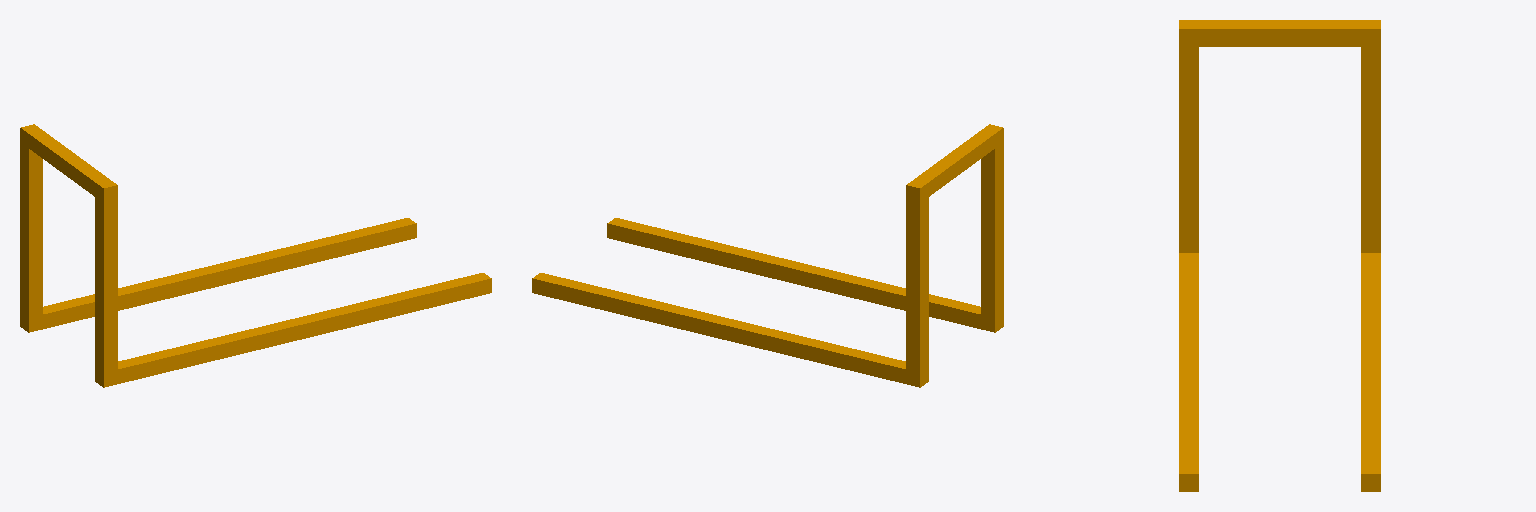
The robot description file, URDF, robot "post":
<?xml version="1.0"?>

<robot name="post">
    <link name="base_link" concave="yes">
        <visual>
            <origin xyz="0 0 0" rpy="0 0 0"/>
            <geometry>
                <mesh
                    filename="../meshes/post.stl"
                    scale="0.01 0.01 0.01"/>
            </geometry>
        </visual>

        <collision concave="yes">
            <origin xyz="0 0 0" rpy="0 0 0"/>
            <geometry>
                <mesh
                    filename="../meshes/post.stl"
                    scale="0.01 0.01 0.01"/>
            </geometry>
        </collision>

        <inertial>
            <origin xyz="0 0 0" rpy="0 0 0"/>
            <mass value="1.0"/>
            <inertia
                ixx="1.0"
                iyy="1.0"
                izz="1.0"
                ixy="0.0"
                ixz="0.0"
                iyz="0.0"/>
        </inertial>
    </link>
</robot>

--- Facts derived from the render (not from the file) ---
The picture shows the robot from 3 angles, left to right: view 1: azimuth 30°, elevation 25°; view 2: azimuth 150°, elevation 25°; view 3: azimuth 270°, elevation 25°; orthographic projection.
Robot: post — 1 links, 0 joints (none); root link base_link; default pose: all joints at 0.
Visible links, largest first — view 1: base_link; view 2: base_link; view 3: base_link.
Link boxes in pixels (x1,y1,x2,y2): base_link: [20, 124, 491, 387]; base_link: [532, 124, 1003, 387]; base_link: [1179, 20, 1380, 491].
Size in the robot's own frame: 11 by 4.08 by 5.4 metres.
1 mesh visuals loaded from 1 distinct referenced files (1 binary STL).
